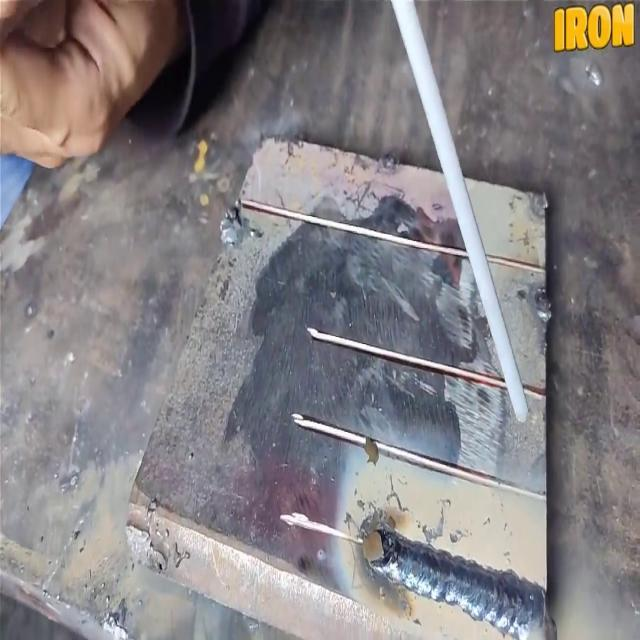Good Weld: (392, 526, 518, 636)
